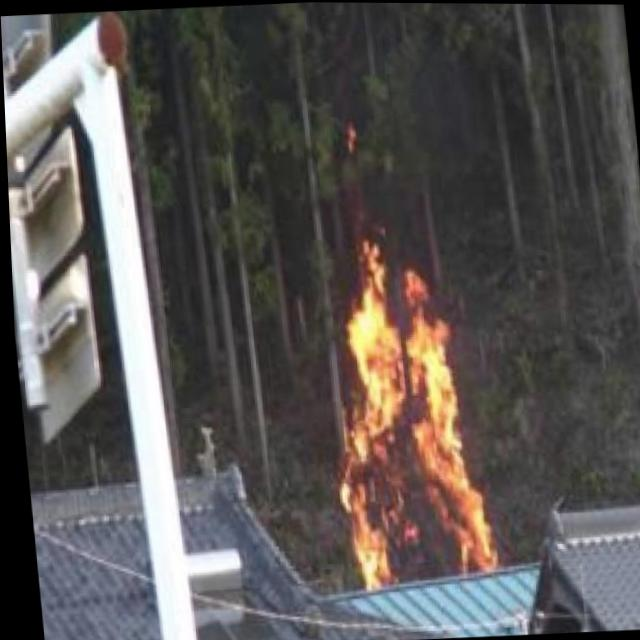Fire: (317, 252, 497, 592)
